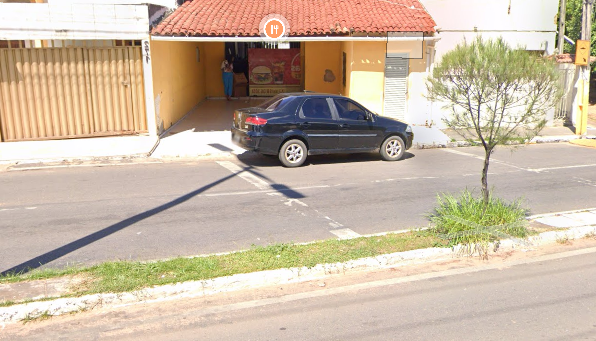car: (229, 87, 417, 171)
